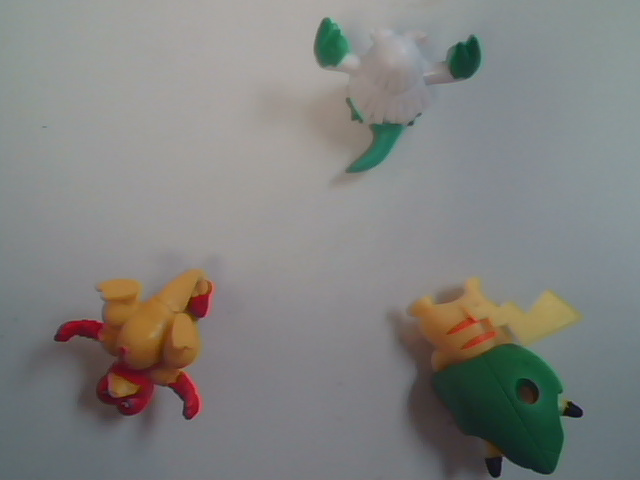abomasnow: (295, 3, 491, 208)
magmar: (53, 235, 282, 439)
pikachu: (375, 260, 604, 480)
